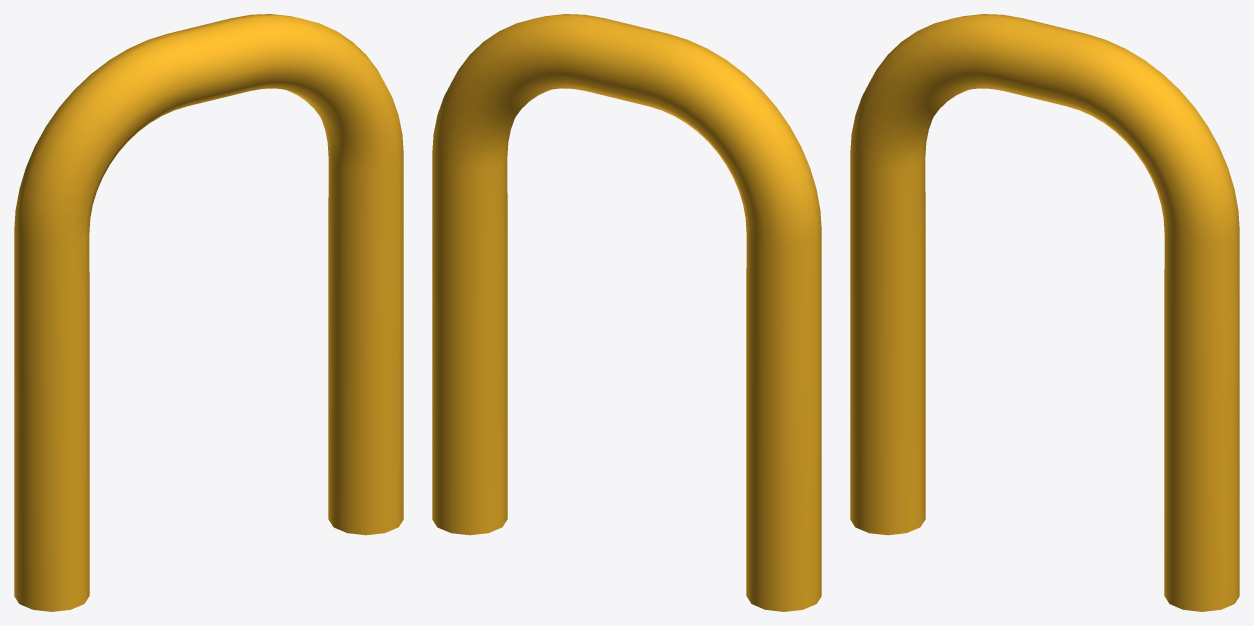
The model's file is gateLarge_teamYellow-col.glb.
The picture shows the model from 3 angles, left to right: view 1: azimuth 30°, elevation 25°; view 2: azimuth 150°, elevation 25°; view 3: azimuth 330°, elevation 25°; orthographic projection.
Parts seen in each view (by area): view 1: gateLarge_teamYellow-col; view 2: gateLarge_teamYellow-col; view 3: gateLarge_teamYellow-col.
Part boxes in pixels (box(x1,y1,x2,y2)): gateLarge_teamYellow-col: box(14, 14, 403, 611); gateLarge_teamYellow-col: box(432, 14, 821, 611); gateLarge_teamYellow-col: box(850, 14, 1239, 611).
Size of the model in its own units: 2.4 by 3.2 by 0.4126.
